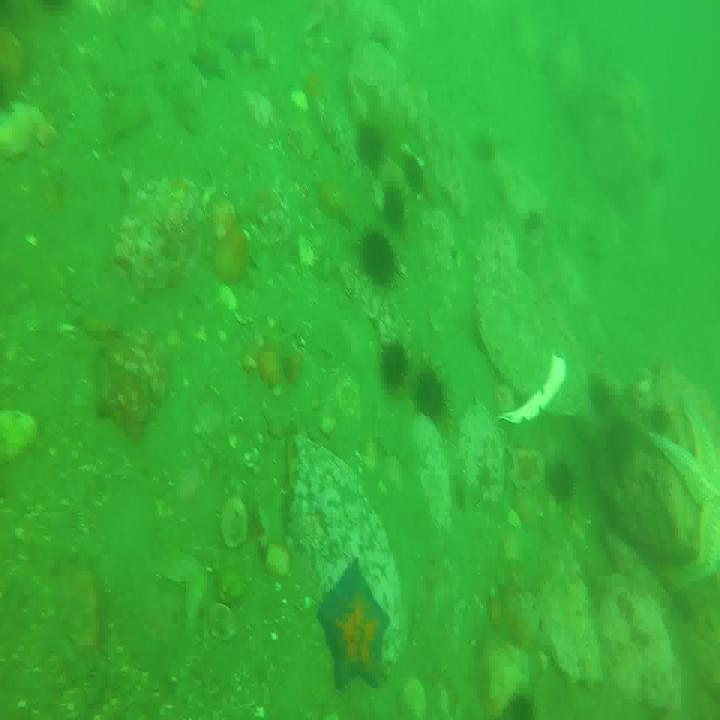echinus: (363, 231, 399, 295), (416, 366, 446, 421), (494, 682, 537, 720), (379, 341, 408, 390), (547, 455, 575, 505), (356, 126, 383, 173), (608, 419, 632, 467), (384, 182, 408, 230), (414, 165, 430, 210), (650, 402, 671, 433)
scallop: (222, 489, 248, 553)
starfish: (658, 402, 720, 596), (322, 561, 388, 695), (193, 41, 226, 82)
